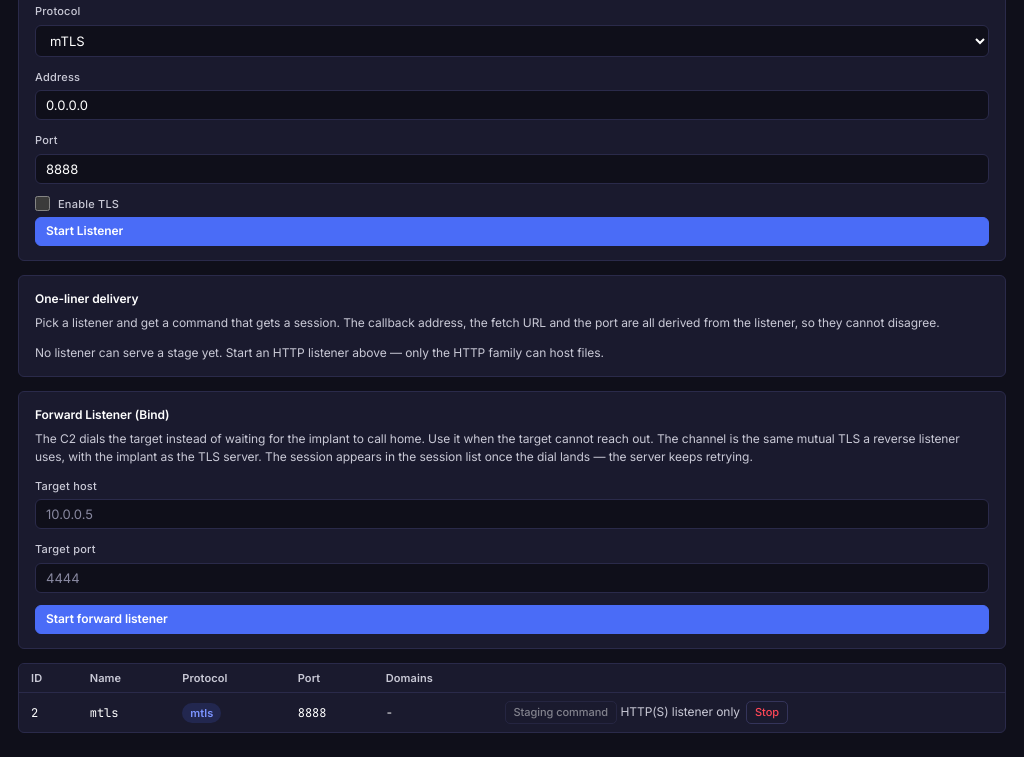
ListenersPage staging button › disables the context-menu staging item with the same reason
(page scrolled)
Expected: the 1st text "mtls" is shown, [78,693,170,732]
Right-click the row that starts with "mtls" at (512,713), box [19,693,1005,732]
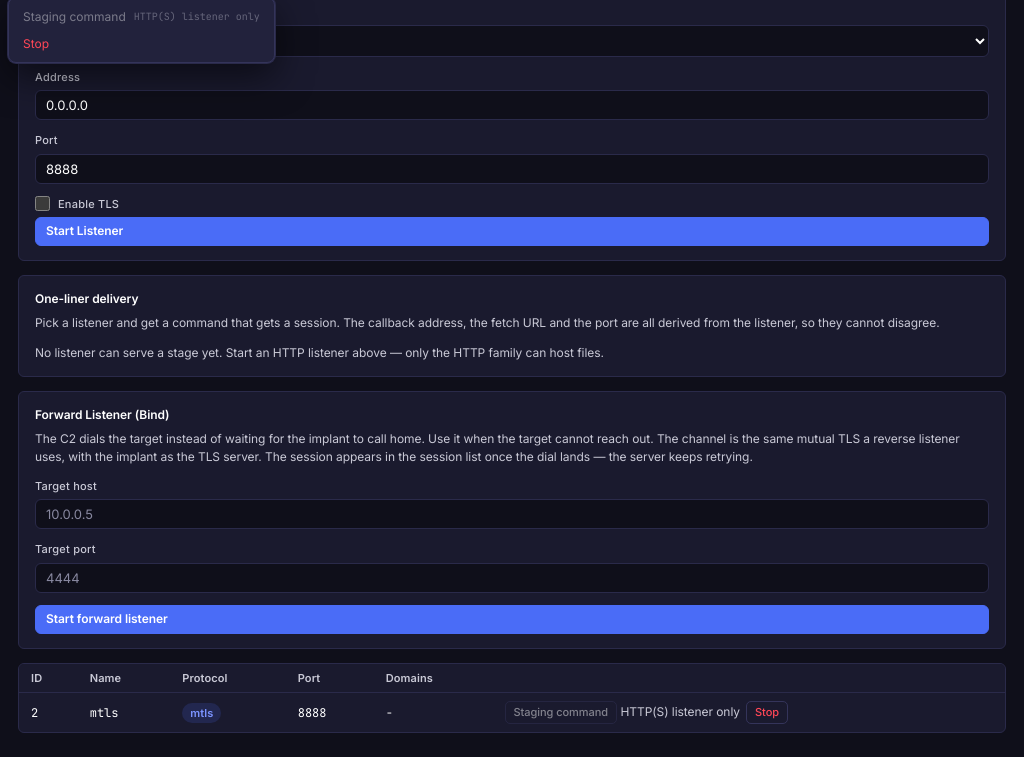
Expected: the menu item "Staging command HTTP(S) listener only" is disabled, [14,3,269,30]
Expected: the menu item "Staging command HTTP(S) listener only" is shown, [14,3,269,30]
